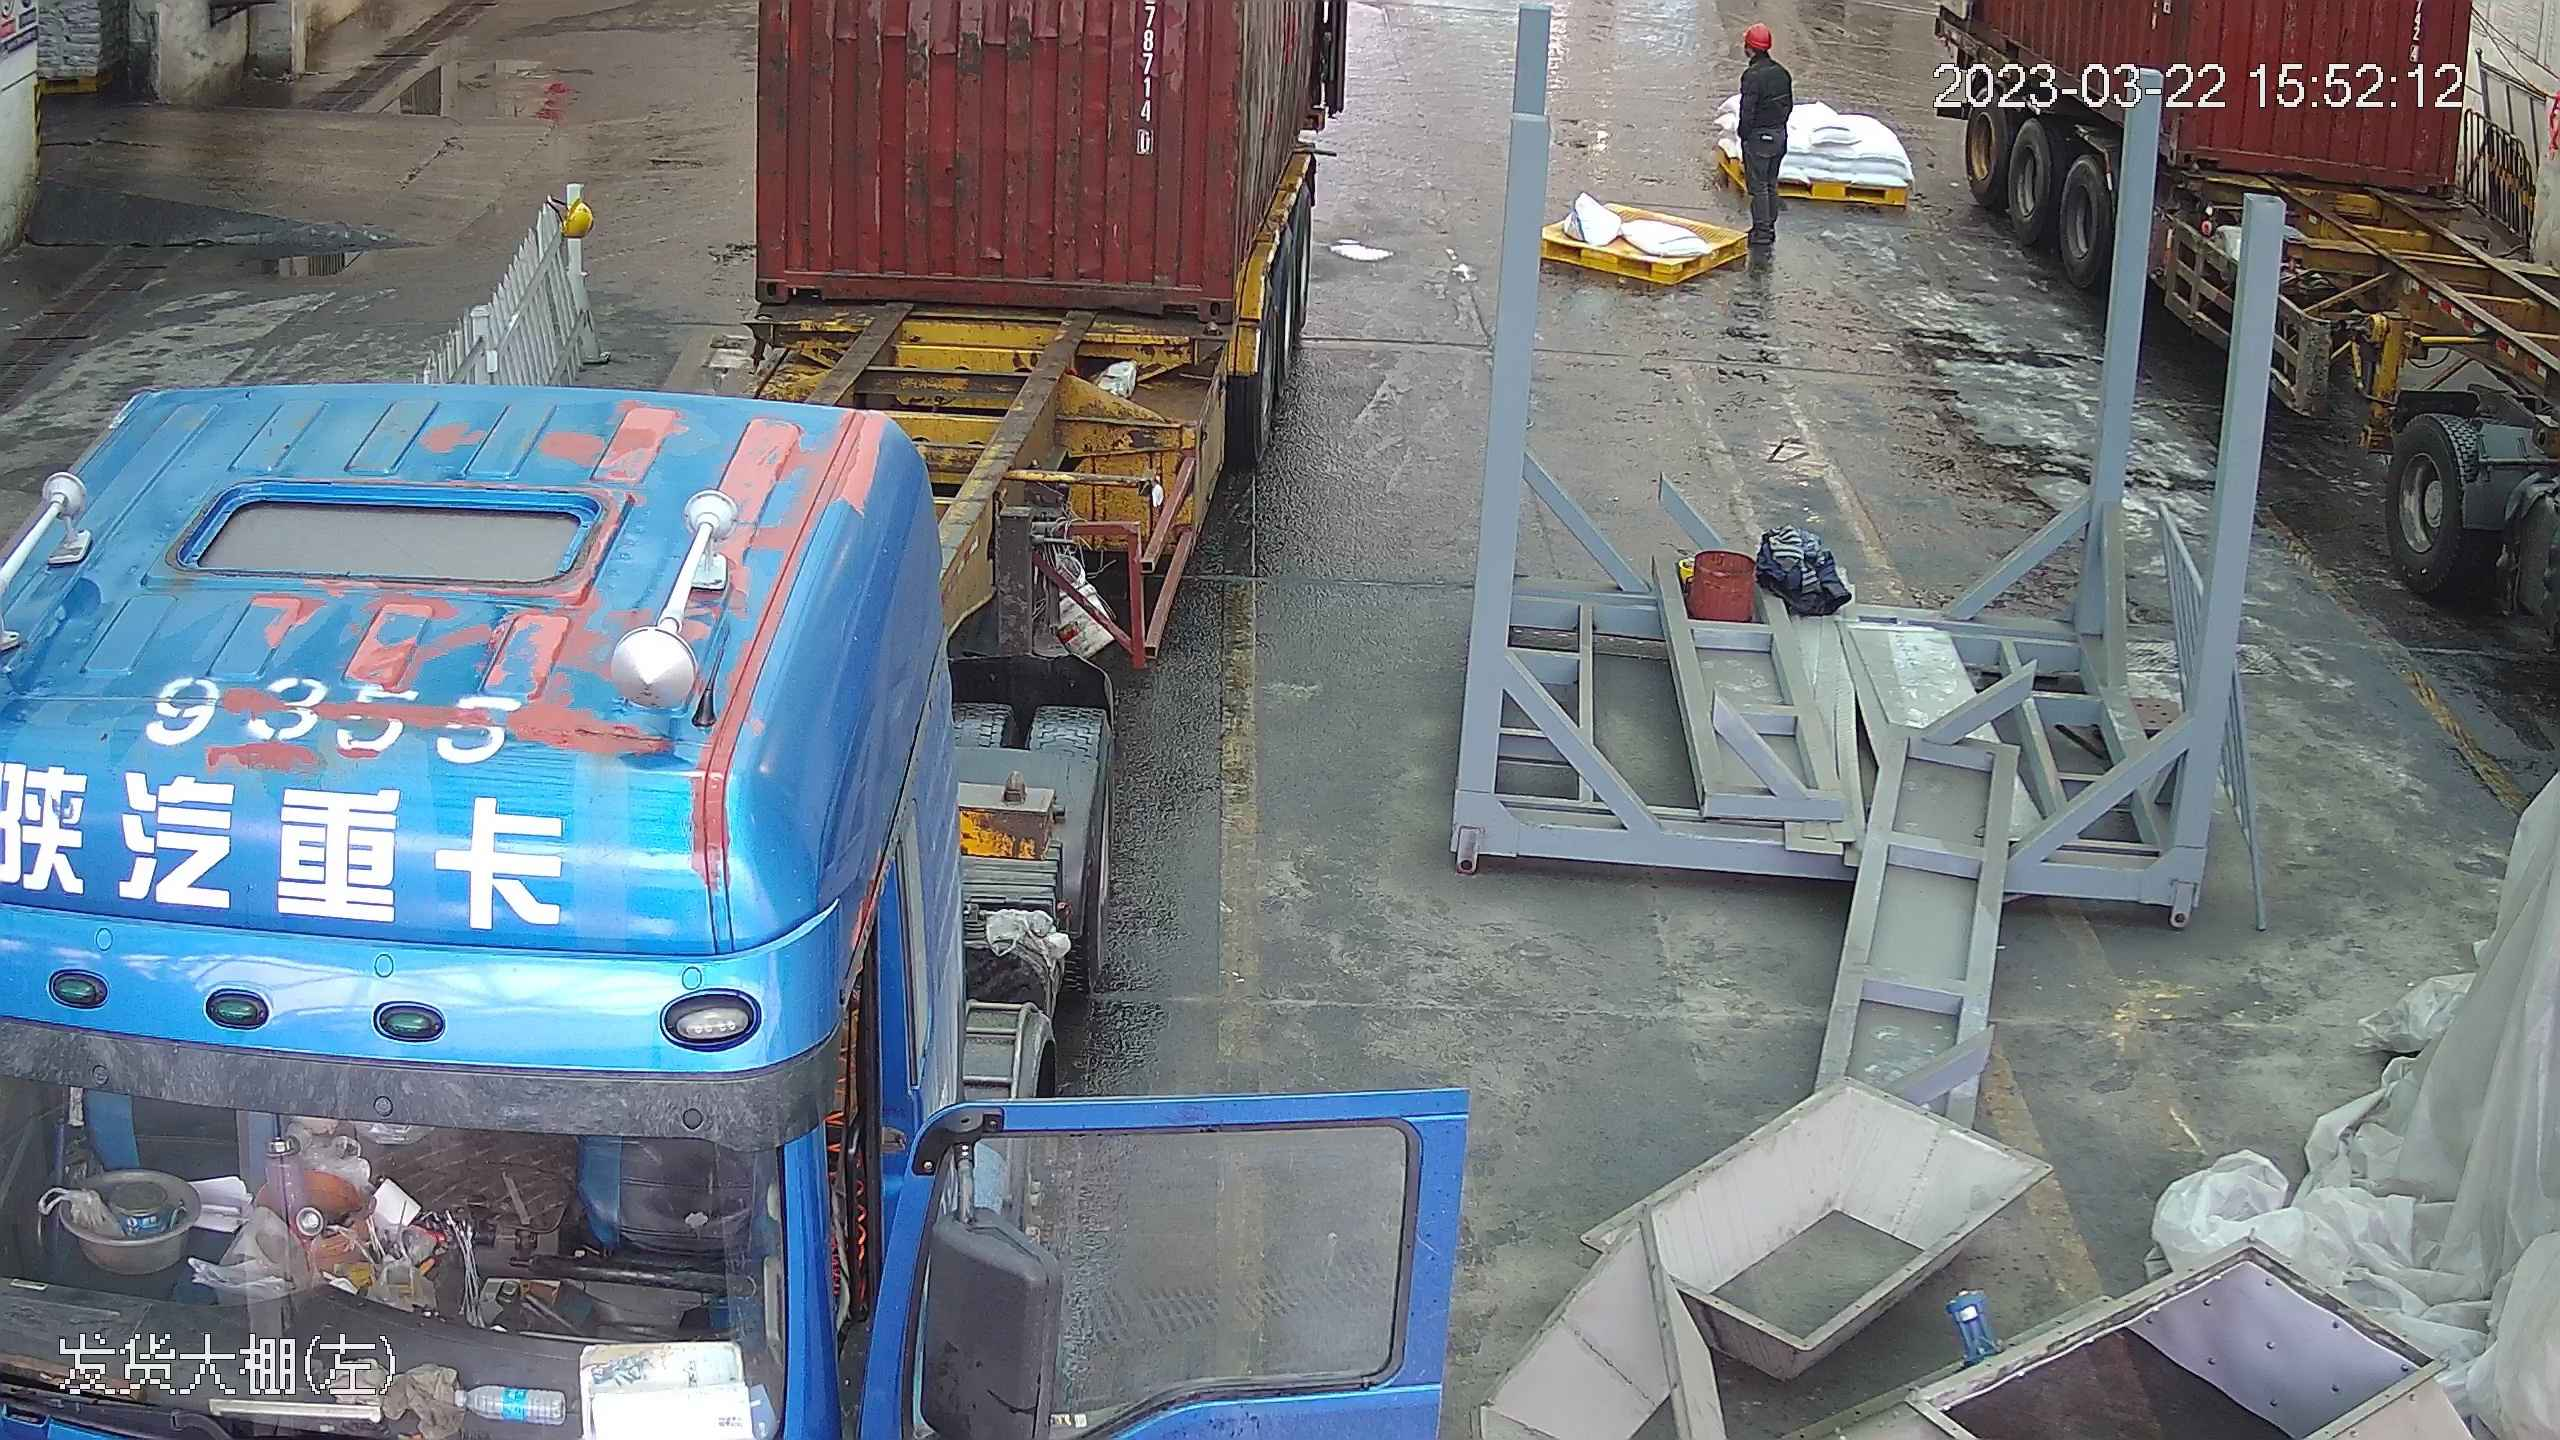head: (1734, 17, 1794, 92)
helmet: (559, 193, 593, 231), (1740, 16, 1775, 43)
people: (1727, 16, 1797, 266)
truck: (1, 197, 1094, 1433)
